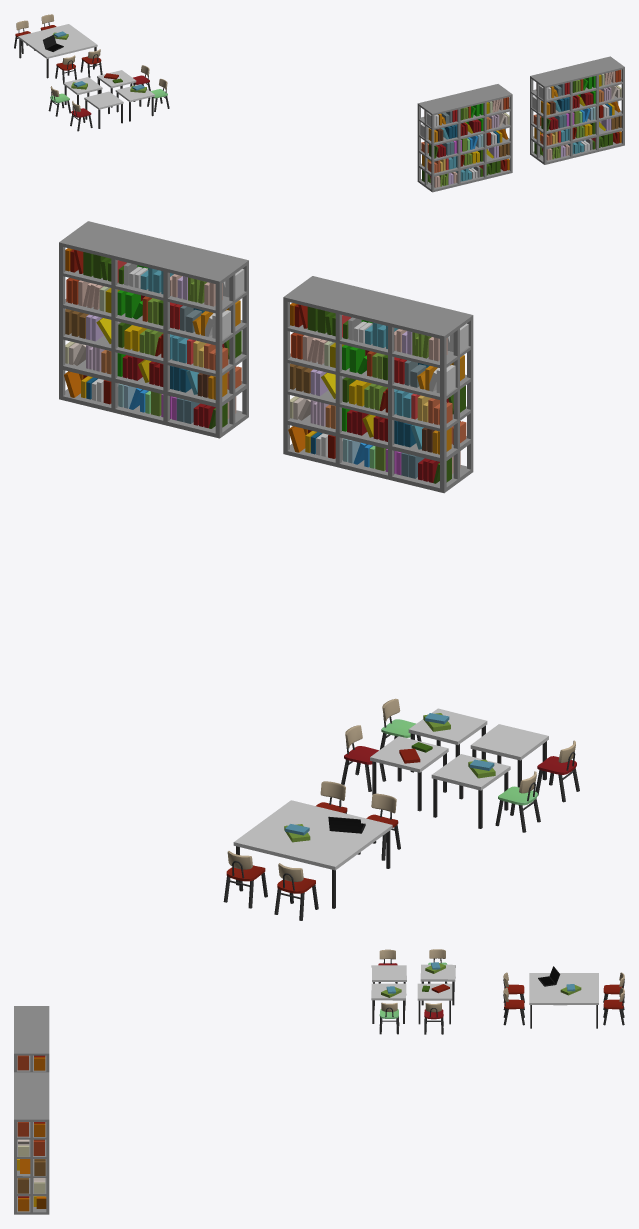
3 views of the same model, one above another, from view 1: azimuth 30°, elevation 25°; view 2: azimuth 150°, elevation 25°; view 3: azimuth 270°, elevation 25° (orthographic). The views are drawn at different scales.
Visible parts, largest first — view 1: 1er Tisch A.002; view 2: 1er Tisch A.002; view 3: 1er Tisch A.002.
Part boxes in pixels (x1,y1,x2,y2): 1er Tisch A.002: [14, 14, 624, 192]; 1er Tisch A.002: [59, 221, 579, 920]; 1er Tisch A.002: [14, 949, 624, 1214].
Bounding box in the file's own units: 17.49 × 3.3 × 19.22.
Materials: 2 (2 with a texture image).
